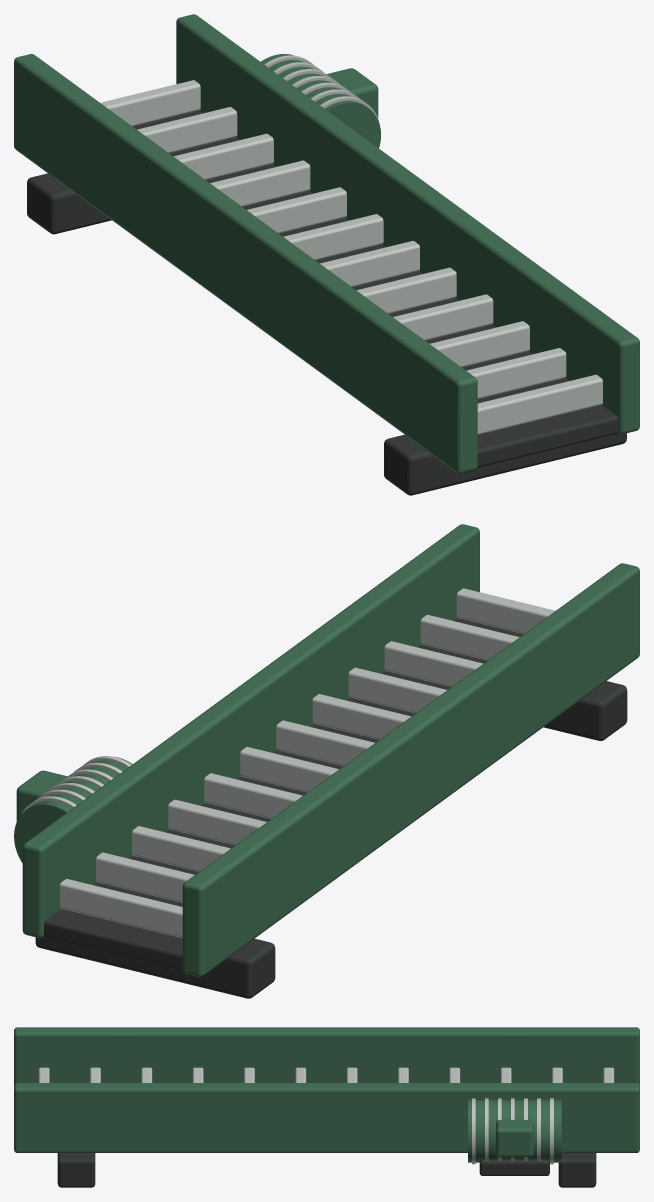
Rendered from sawmill-and-timber-yard-sawdust-conveyor-cabe04a0__31179.glb.
The picture shows the model from 3 angles, top to bottom: view 1: azimuth 30°, elevation 25°; view 2: azimuth 150°, elevation 25°; view 3: azimuth 270°, elevation 25°; orthographic projection. The views are drawn at different scales.
Visible parts, largest first — view 1: sawdust-conveyor; view 2: sawdust-conveyor; view 3: sawdust-conveyor.
Part boxes in pixels (x1=…): sawdust-conveyor: x1=14, y1=14, x2=639, y2=495; sawdust-conveyor: x1=14, y1=524, x2=639, y2=998; sawdust-conveyor: x1=14, y1=1027, x2=639, y2=1187.
Bounding box in the file's own units: 0.735 × 0.33 × 2.
